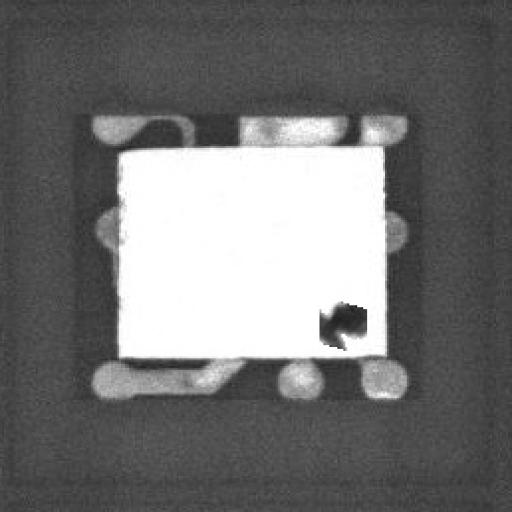DIE_INK: (303, 314, 347, 363)
